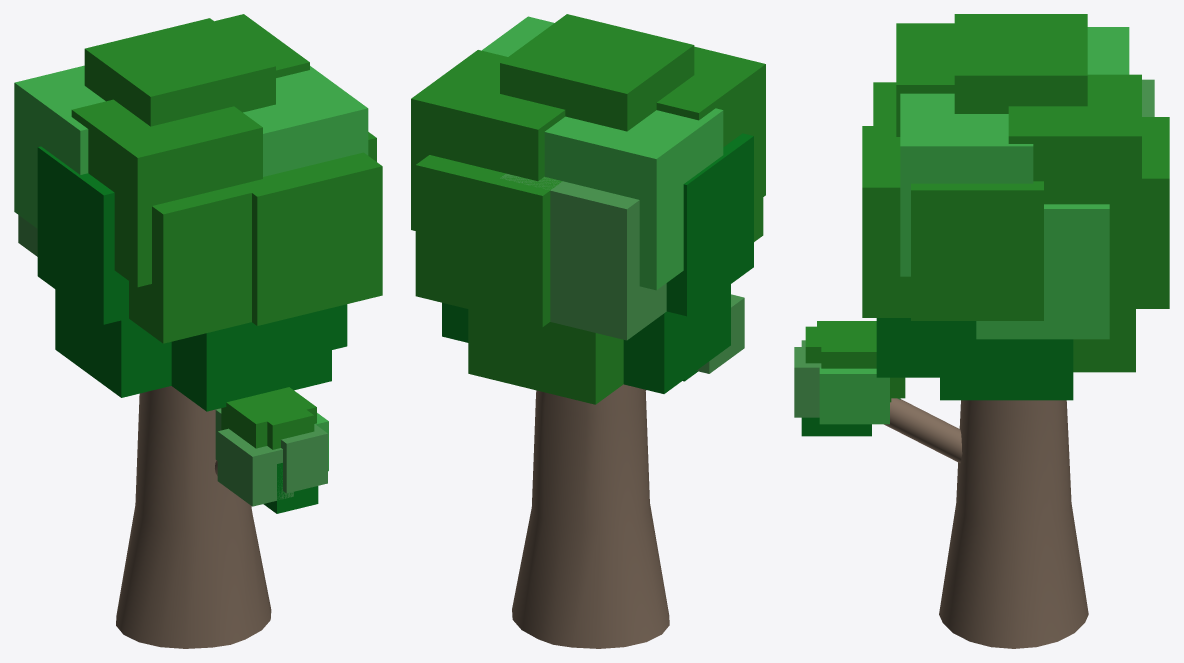
Rendered from newTree3.fbx.
The picture shows the model from 3 angles, left to right: view 1: azimuth 30°, elevation 25°; view 2: azimuth 150°, elevation 25°; view 3: azimuth 270°, elevation 25°; orthographic projection.
Parts seen in each view (by area): view 1: polySurface32_polySurface5; view 2: polySurface32_polySurface5; view 3: polySurface32_polySurface5.
Part boxes in pixels (bbox=[...]): polySurface32_polySurface5: bbox=[14, 14, 382, 648]; polySurface32_polySurface5: bbox=[411, 14, 765, 648]; polySurface32_polySurface5: bbox=[794, 14, 1169, 648].
Size of the model in its own units: 0.846 by 1.76 by 1.06.
